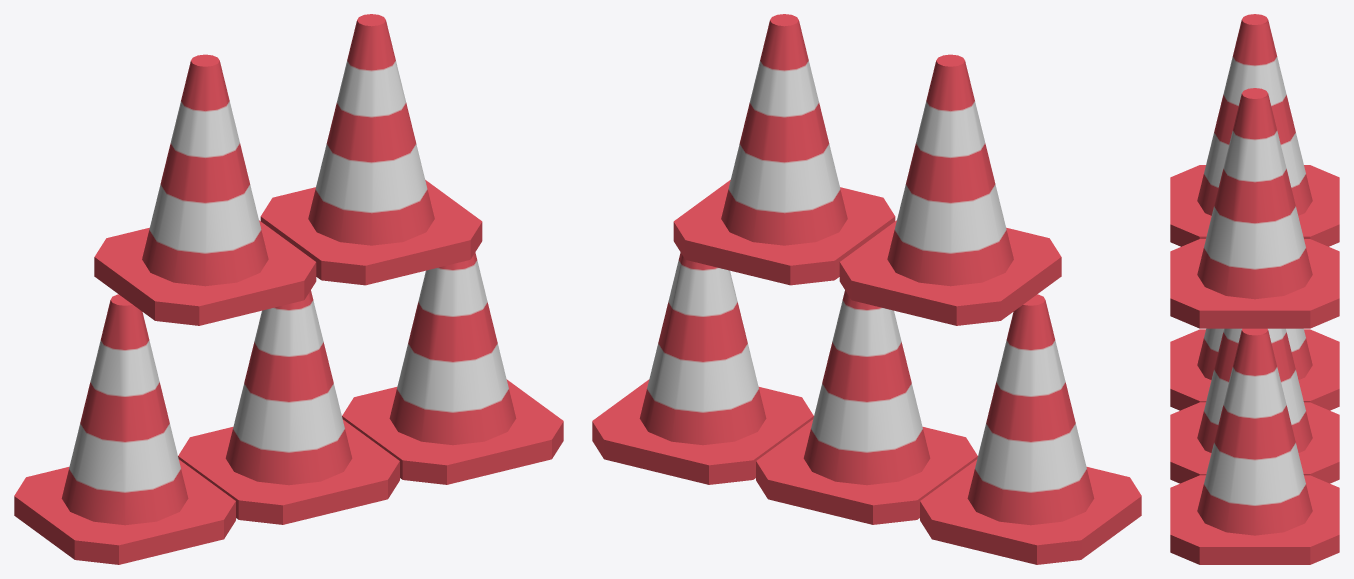
The model's file is conuses.fbx.
3 views of the same model, side by side, from view 1: azimuth 30°, elevation 25°; view 2: azimuth 150°, elevation 25°; view 3: azimuth 270°, elevation 25° (orthographic). The views are drawn at different scales.
Parts seen in each view (by area): view 1: conuses; view 2: conuses; view 3: conuses.
Part boxes in pixels (x1=…): conuses: x1=14, y1=14, x2=563, y2=564; conuses: x1=592, y1=14, x2=1141, y2=564; conuses: x1=1170, y1=14, x2=1339, y2=564.
Bounding box in the file's own units: 265 × 227 × 87.27.
